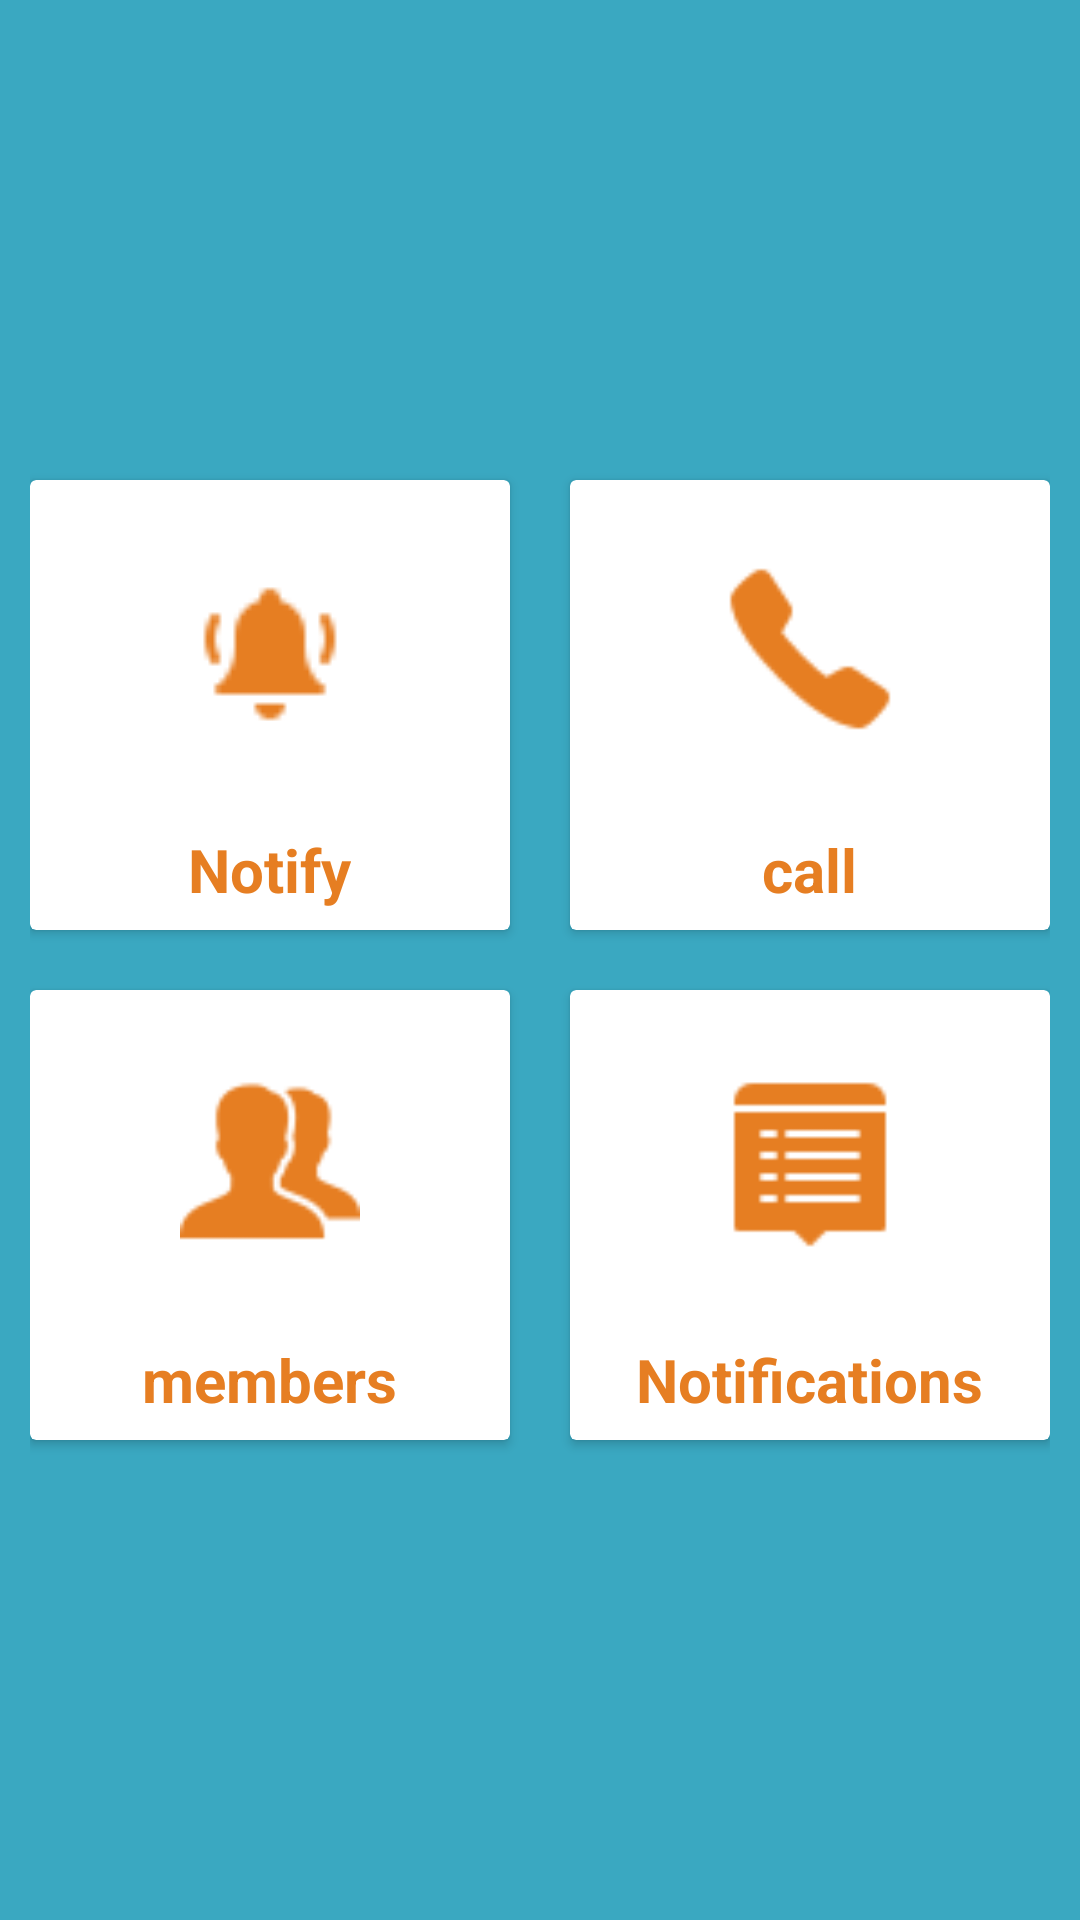

Where to tap for icons on this 1080*1920 app screen, as (x,y):
notificaitonlist: (810,1164)
notification: (270,654)
